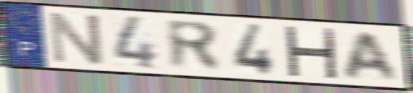4: (111, 14, 163, 71), (231, 22, 277, 77)
A: (341, 30, 402, 82)
H: (282, 24, 339, 81)
N: (47, 9, 106, 66)
R: (163, 17, 226, 73)
